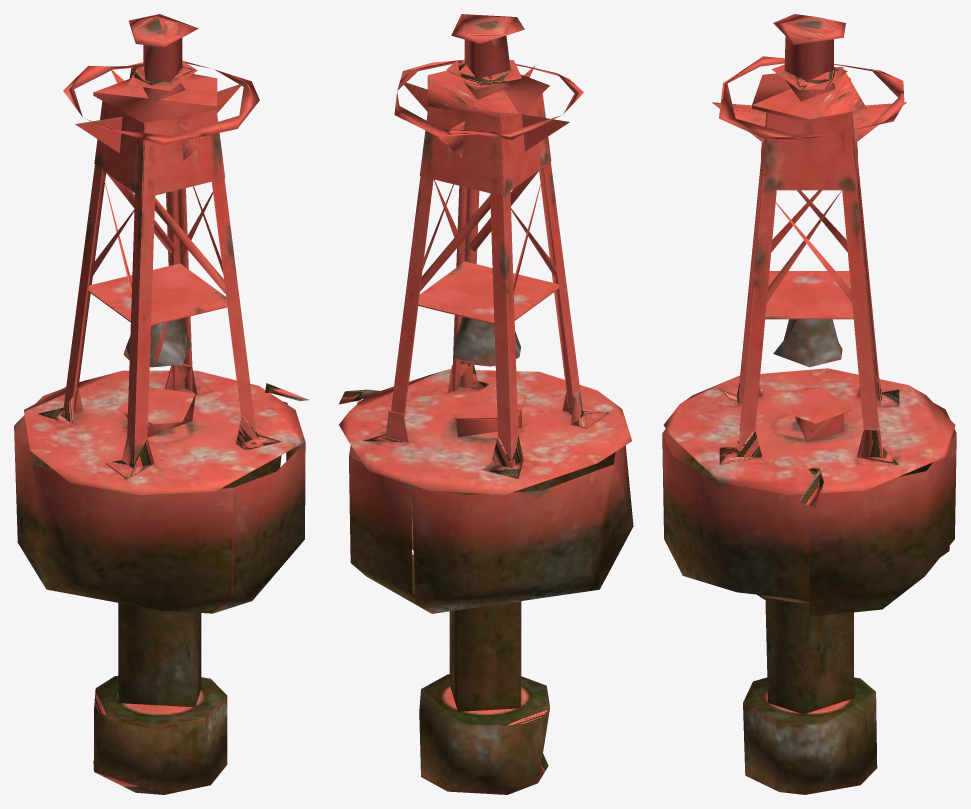
Rendered from phao.glb.
The picture shows the model from 3 angles, left to right: view 1: azimuth 30°, elevation 25°; view 2: azimuth 150°, elevation 25°; view 3: azimuth 270°, elevation 25°; orthographic projection.
Visible parts, largest first — view 1: ocean_buoy; view 2: ocean_buoy; view 3: ocean_buoy.
Part boxes in pixels (x1=…): ocean_buoy: x1=14, y1=14, x2=308, y2=794; ocean_buoy: x1=338, y1=14, x2=633, y2=794; ocean_buoy: x1=662, y1=14, x2=956, y2=794.
Size of the model in its own units: 0.3832 by 1 by 0.3584.
1 material, 1 textured.
